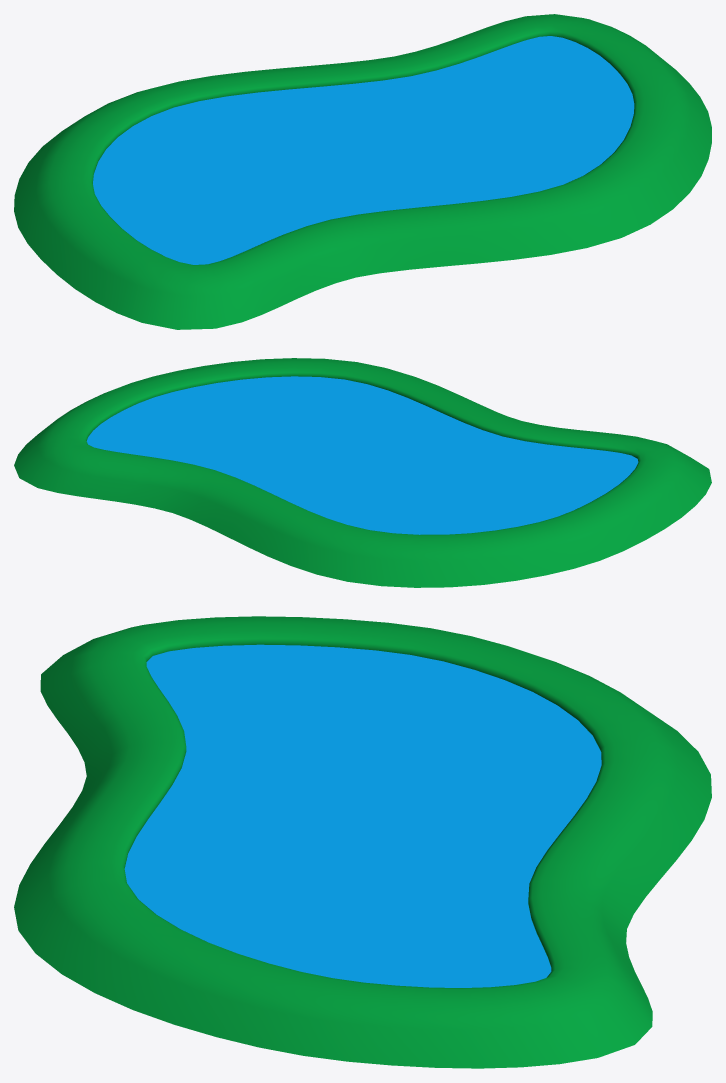
File: Farm_14_Pond_1.glb
The picture shows the model from 3 angles, top to bottom: view 1: azimuth 30°, elevation 25°; view 2: azimuth 150°, elevation 25°; view 3: azimuth 270°, elevation 25°; orthographic projection. The views are drawn at different scales.
Parts seen in each view (by area): view 1: Farm_14_Pond_1; view 2: Farm_14_Pond_1; view 3: Farm_14_Pond_1.
Part boxes in pixels (left/top/right/bottom): Farm_14_Pond_1: left=14, top=14, right=711, bottom=329; Farm_14_Pond_1: left=14, top=358, right=711, bottom=587; Farm_14_Pond_1: left=14, top=616, right=711, bottom=1068.
Bounding box in the file's own units: 6.15 × 0.265 × 4.16.
1 material, 1 textured.
